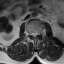CCS_normal: (33, 30, 35, 39)
LFS_stenosis: (38, 30, 40, 36)
LLS_normal: (35, 30, 38, 37)
RFS_stenosis: (28, 30, 31, 37)
RLS_normal: (31, 30, 33, 37)
